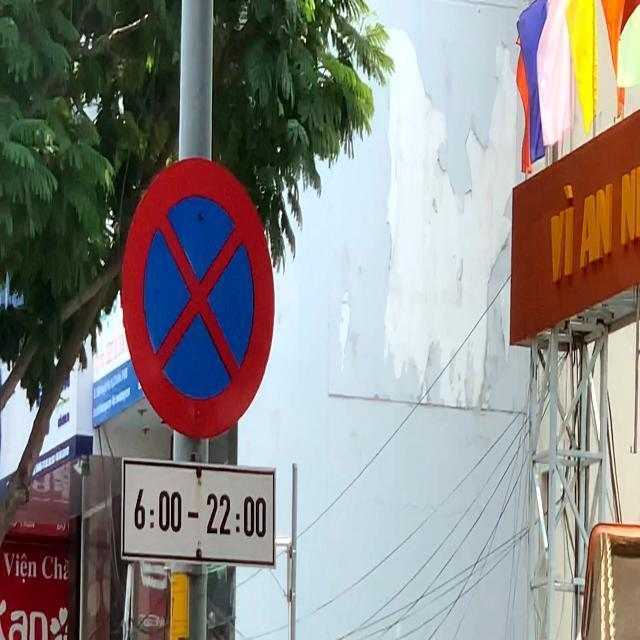130-cam-dung-va-do-xe: (120, 161, 274, 439)
